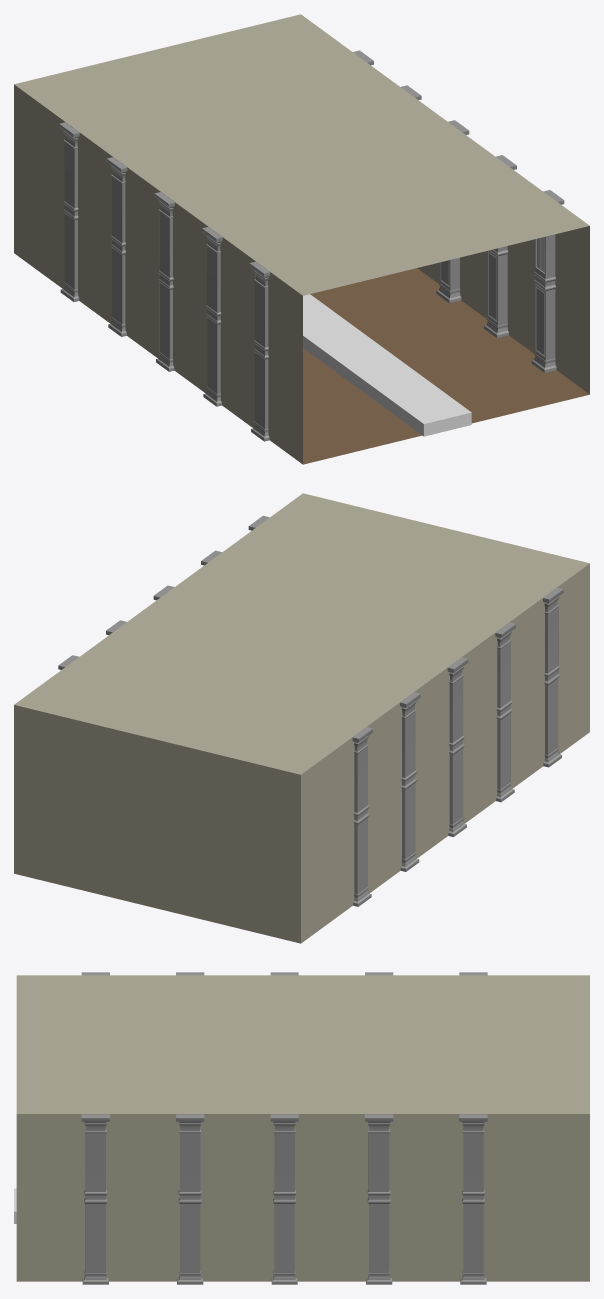
Rendered from stage_mockup.fbx.
3 renders of one model, top to bottom at view 1: azimuth 30°, elevation 25°; view 2: azimuth 150°, elevation 25°; view 3: azimuth 270°, elevation 25°, orthographic.
Visible parts, largest first — view 1: pPlane1, pCube4, column12, column9, column, column14, column2, column3, column11, column10; view 2: pPlane1, column2, column14, column9, column, column3; view 3: pPlane1, column1, column13, column12, column10, column11.
Part boxes in pixels (left/top/right/bottom): pPlane1: left=14, top=14, right=589, bottom=464; pCube4: left=303, top=294, right=471, bottom=436; column12: left=531, top=190, right=564, bottom=372; column9: left=249, top=261, right=270, bottom=441; column: left=59, top=122, right=79, bottom=301; column14: left=106, top=157, right=127, bottom=336; column2: left=154, top=192, right=174, bottom=371; column3: left=202, top=227, right=222, bottom=406; column11: left=484, top=155, right=516, bottom=338; column10: left=436, top=120, right=469, bottom=303; pPlane1: left=14, top=493, right=589, bottom=943; column2: left=447, top=657, right=468, bottom=836; column14: left=400, top=692, right=420, bottom=871; column9: left=543, top=587, right=563, bottom=767; column: left=352, top=727, right=372, bottom=906; column3: left=495, top=622, right=515, bottom=802; pPlane1: left=16, top=975, right=589, bottom=1281; column1: left=365, top=1114, right=393, bottom=1284; column13: left=459, top=1114, right=487, bottom=1284; column12: left=81, top=1114, right=109, bottom=1284; column10: left=270, top=1114, right=298, bottom=1284; column11: left=176, top=1114, right=204, bottom=1284.
Bounding box in the file's own units: 1108 × 595 × 1853.
